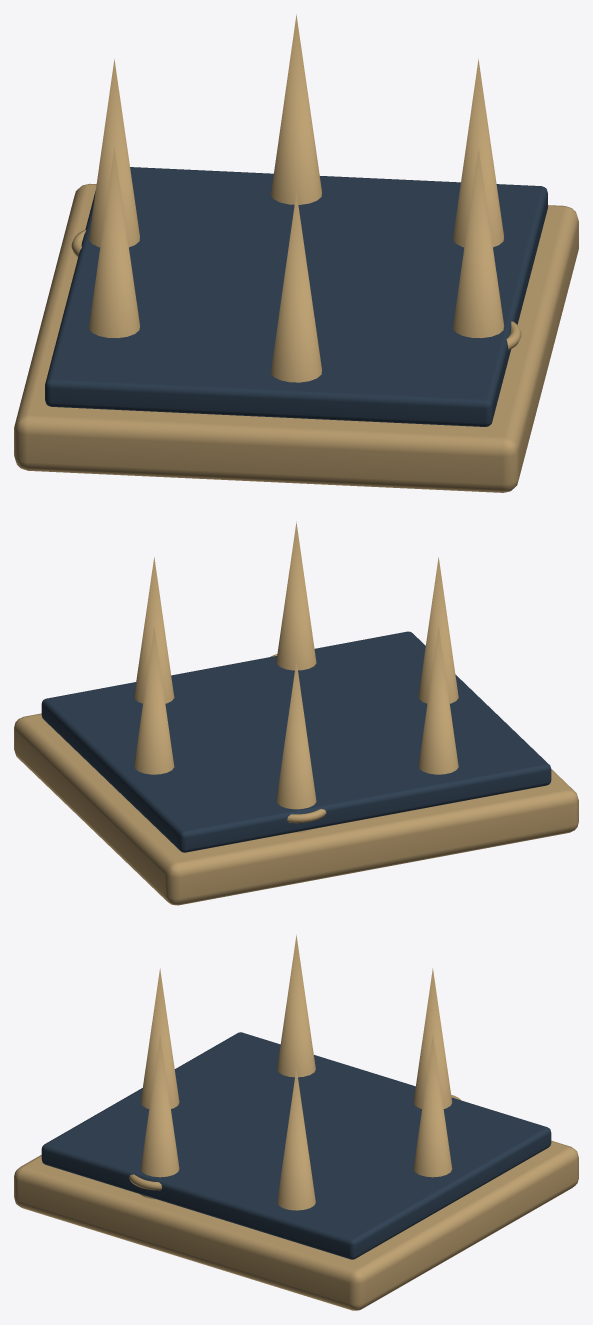
Rendered from SM_HC2_BeatCrown_027.fbx.
3 views of the same model, one above another, from view 1: azimuth 30°, elevation 25°; view 2: azimuth 150°, elevation 25°; view 3: azimuth 270°, elevation 25° (orthographic). The views are drawn at different scales.
Parts seen in each view (by area): view 1: SM_HC2_BeatCrown_027; view 2: SM_HC2_BeatCrown_027; view 3: SM_HC2_BeatCrown_027.
Part boxes in pixels (bbox=[...]): SM_HC2_BeatCrown_027: bbox=[14, 14, 578, 492]; SM_HC2_BeatCrown_027: bbox=[14, 521, 578, 905]; SM_HC2_BeatCrown_027: bbox=[14, 934, 578, 1310].
Size of the model in its own units: 320 by 326 by 125.
